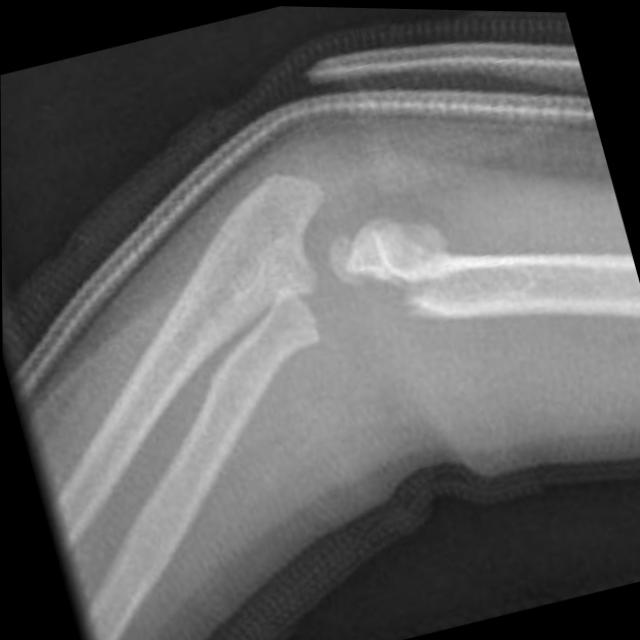fracture: (269, 216, 479, 370)
